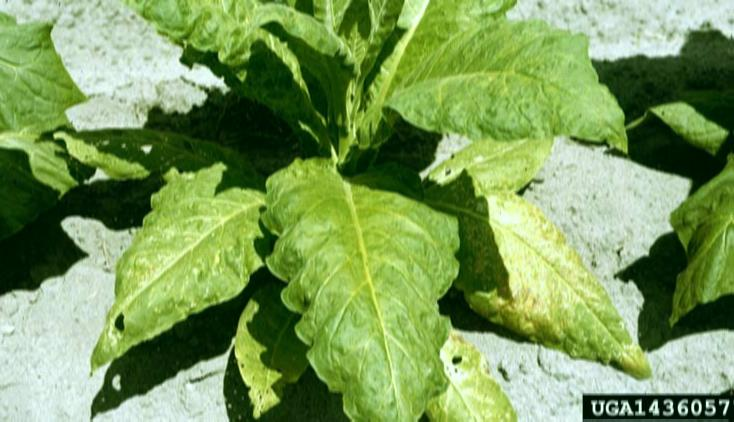Tomato leaf mosaic virus: (260, 160, 466, 422), (16, 0, 328, 128), (98, 141, 264, 349), (399, 33, 638, 154)
